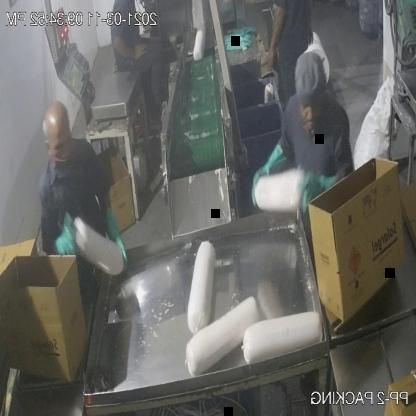no_glove: (252, 132, 282, 207), (262, 4, 287, 76), (105, 34, 148, 68)
